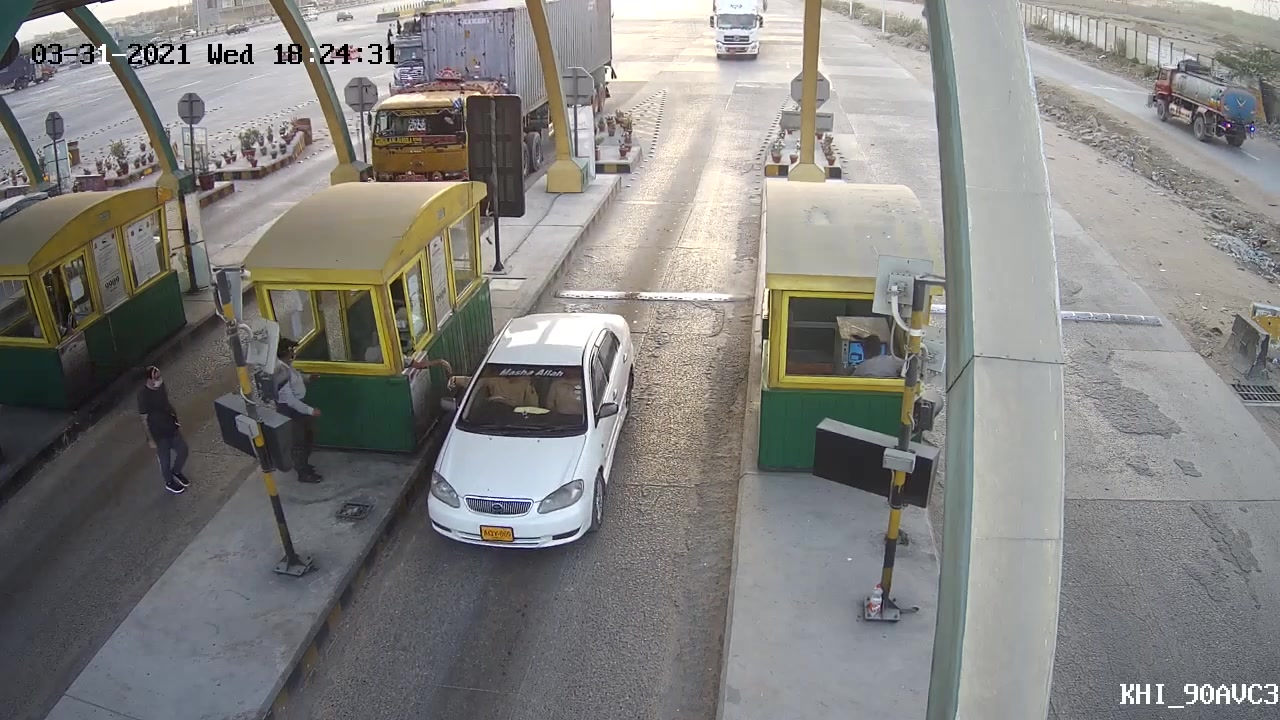F1: (421, 306, 647, 558)
